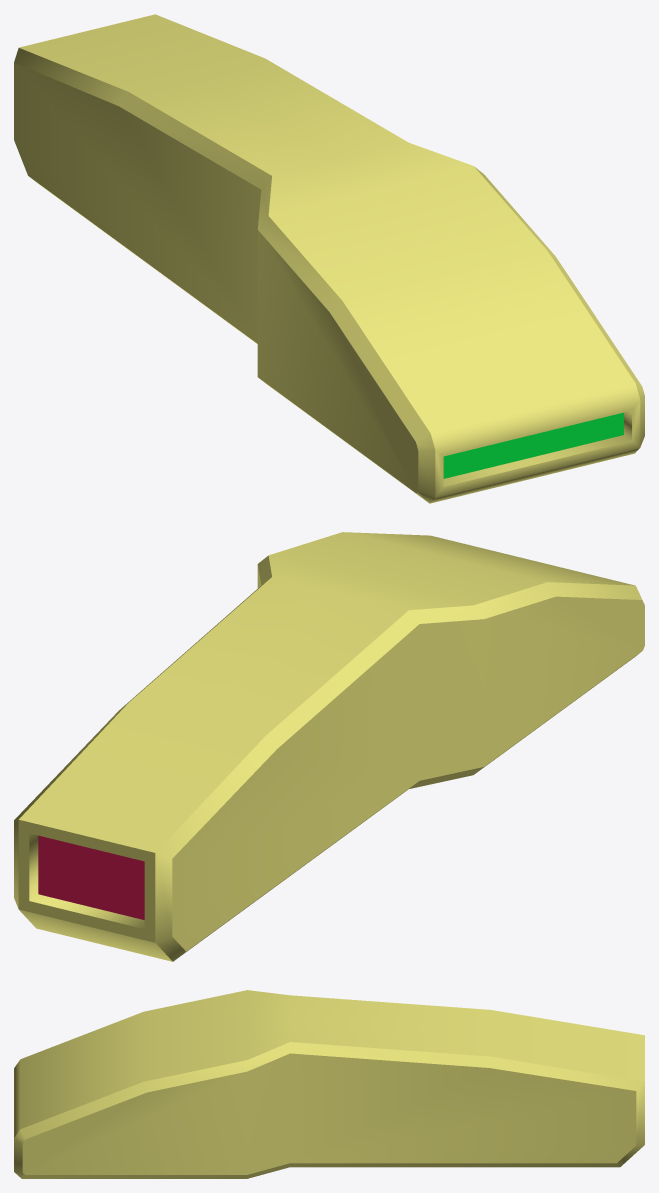
The model's file is DroneBody.fbx.
3 renders of one model, top to bottom at view 1: azimuth 30°, elevation 25°; view 2: azimuth 150°, elevation 25°; view 3: azimuth 270°, elevation 25°, orthographic. The views are drawn at different scales.
Parts seen in each view (by area): view 1: DroneBody; view 2: DroneBody; view 3: DroneBody.
Boxes of the visible parts, left/top/right/bottom form: DroneBody: left=14, top=14, right=644, bottom=503; DroneBody: left=14, top=532, right=644, bottom=961; DroneBody: left=14, top=990, right=644, bottom=1178.
Size of the model in its own units: 39.82 by 30.06 by 137.
